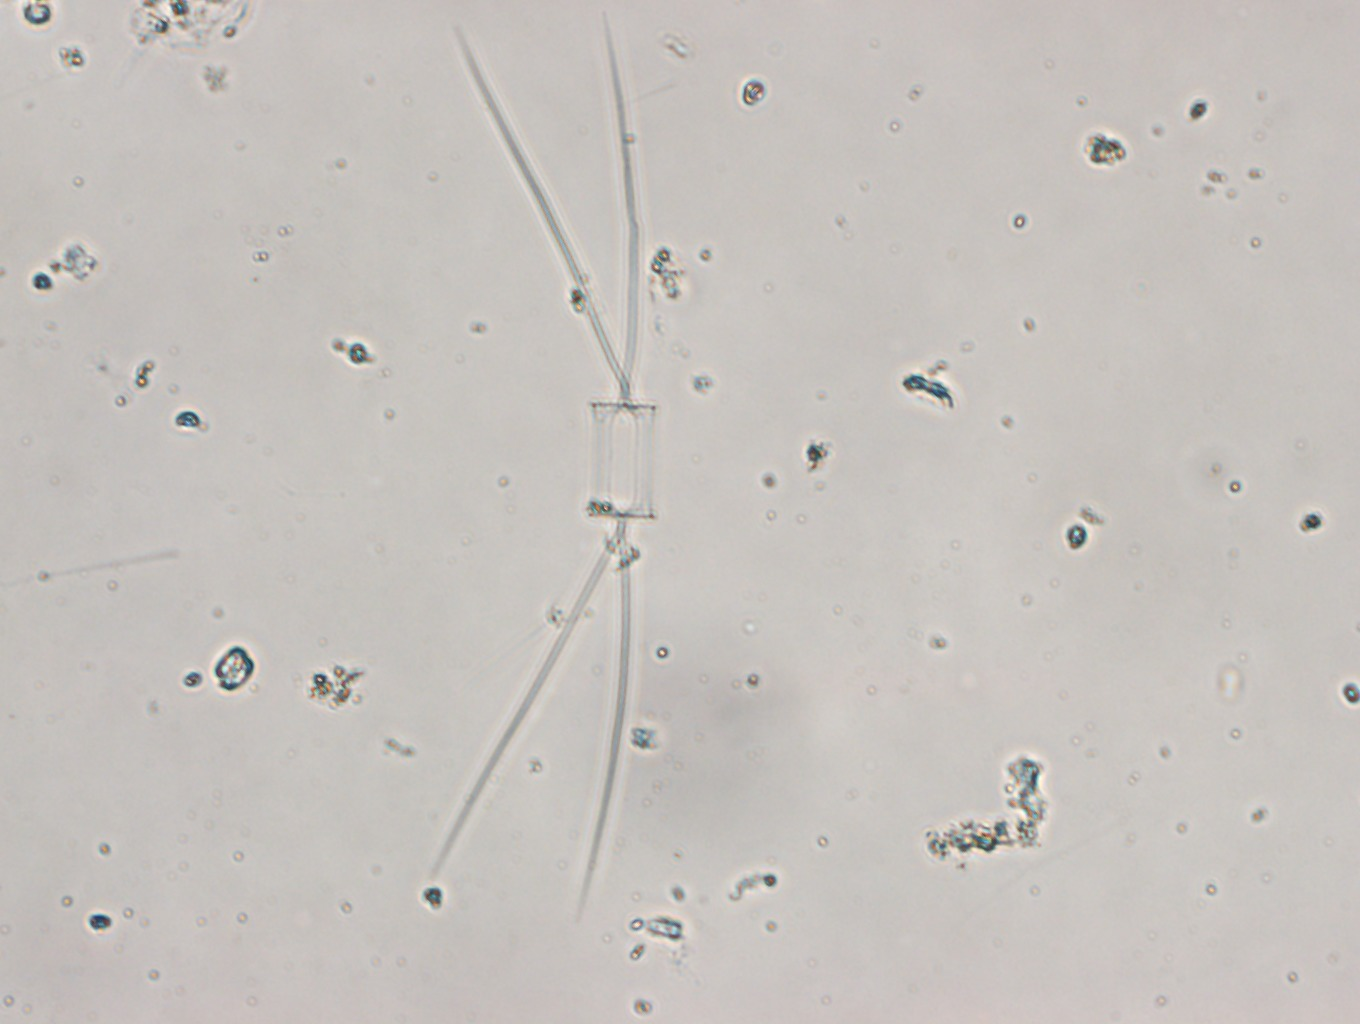chaetoceros: (426, 12, 657, 915)
